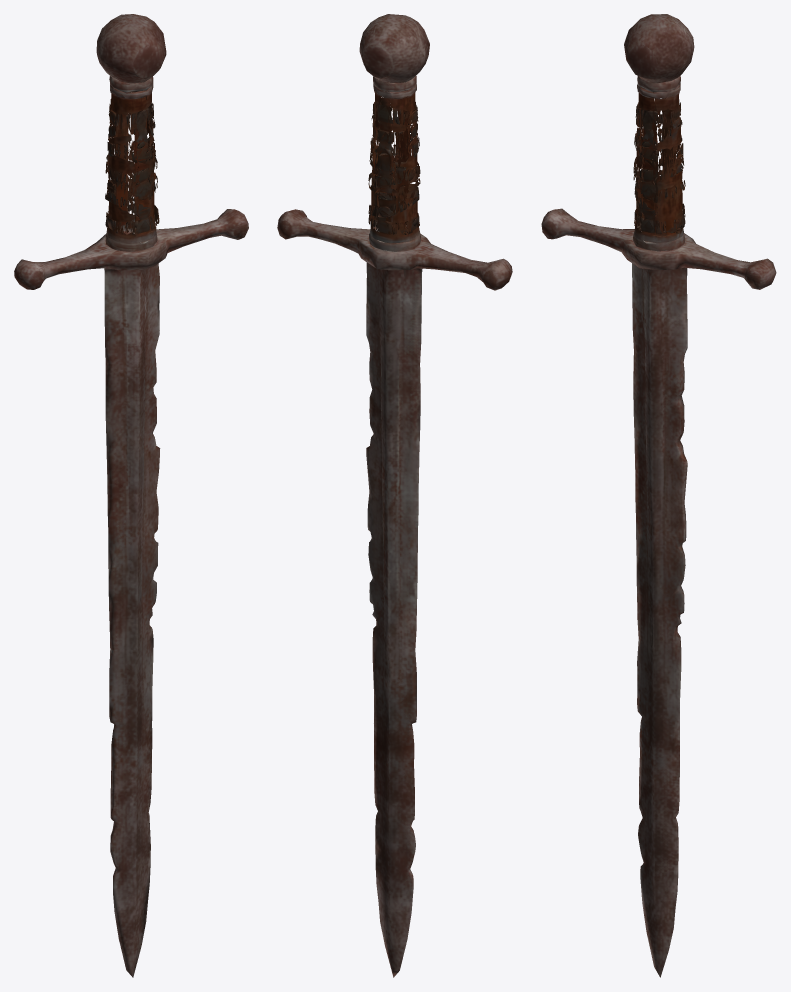
File: game.glb
3 views of the same model, side by side, from view 1: azimuth 30°, elevation 25°; view 2: azimuth 150°, elevation 25°; view 3: azimuth 330°, elevation 25° (orthographic).
Visible parts, largest first — view 1: geometry_0; view 2: geometry_0; view 3: geometry_0.
Part boxes in pixels (x1=…): geometry_0: x1=14, y1=14, x2=248, y2=977; geometry_0: x1=277, y1=14, x2=512, y2=977; geometry_0: x1=541, y1=14, x2=776, y2=977.
Bounding box in the file's own units: 0.2458 × 0.9829 × 0.0647.
1 material, 1 textured.
